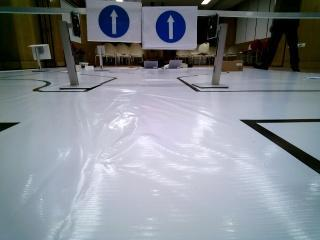straight: (142, 6, 197, 48), (86, 0, 142, 41)
